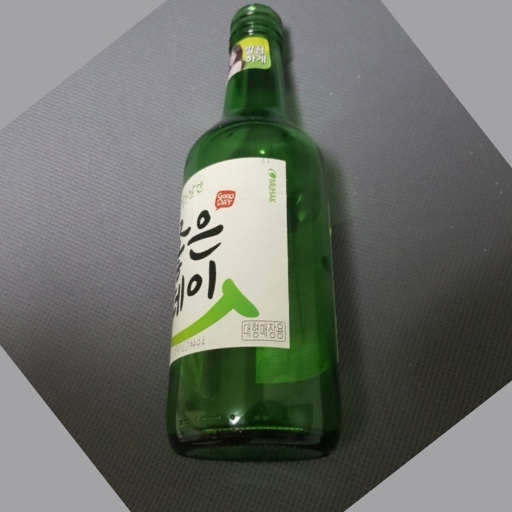Glass_0: (158, 3, 345, 460)
